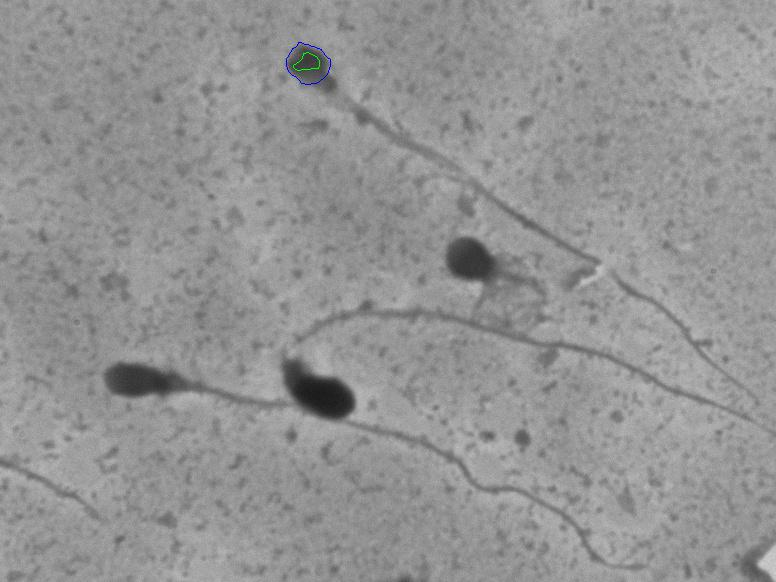Abnormal: (259, 289, 761, 424), (80, 308, 236, 453), (427, 223, 560, 333)
